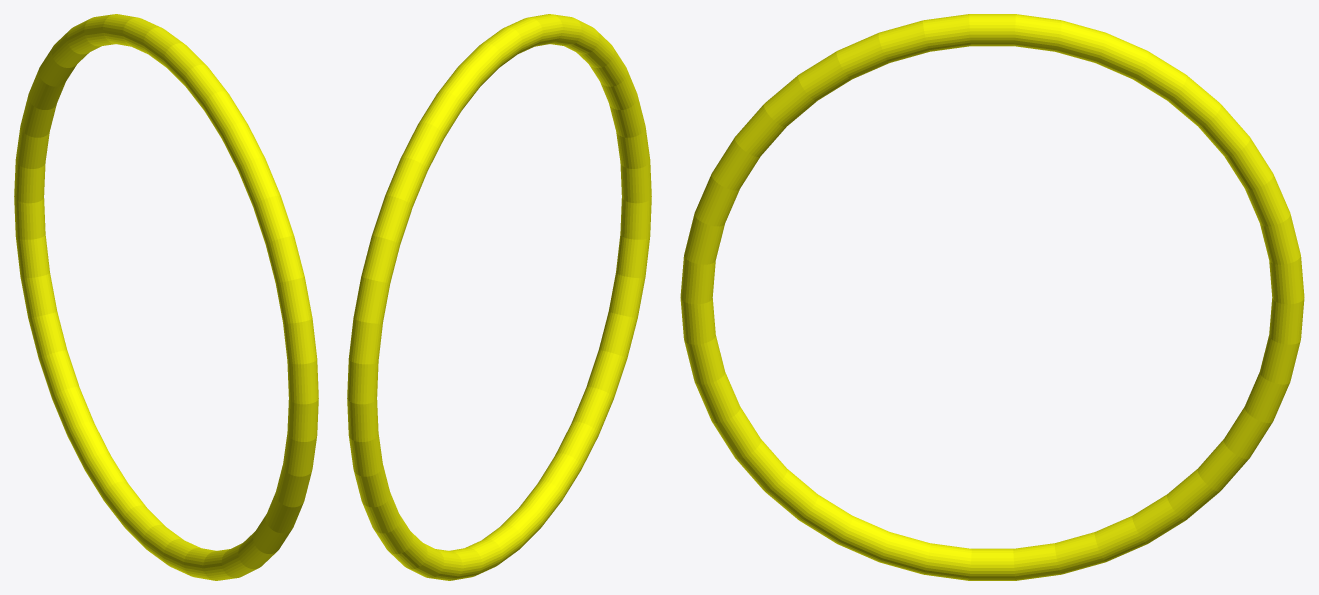
Rendered from checkp.fbx.
3 renders of one model, left to right at view 1: azimuth 30°, elevation 25°; view 2: azimuth 150°, elevation 25°; view 3: azimuth 270°, elevation 25°, orthographic. The views are drawn at different scales.
Parts seen in each view (by area): view 1: Torus.001; view 2: Torus.001; view 3: Torus.001.
Part boxes in pixels (left/top/right/bottom): Torus.001: left=14, top=14, right=318, bottom=580; Torus.001: left=347, top=14, right=651, bottom=580; Torus.001: left=680, top=14, right=1304, bottom=580.
Bounding box in the file's own units: 49.94 × 963 × 966.
